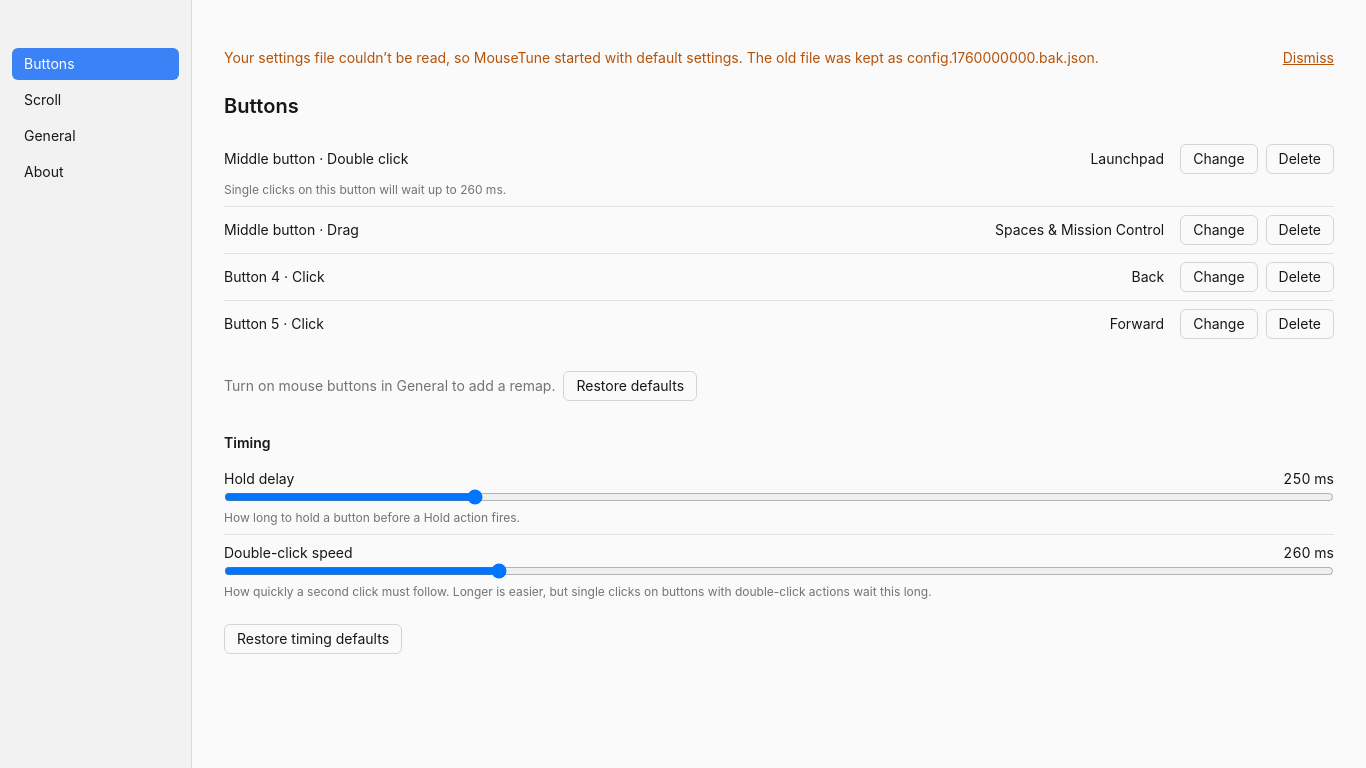
it: App › shows the settings recovery notice on the page Settings opens on
Expected: the heading "Buttons" is shown, [224,94,299,118]
Expected: the text "kept as config.1760000000.bak.json" is shown, [747,49,1099,66]
Click the button "Dismiss".
click(1308, 58)  # box [1283,48,1334,68]
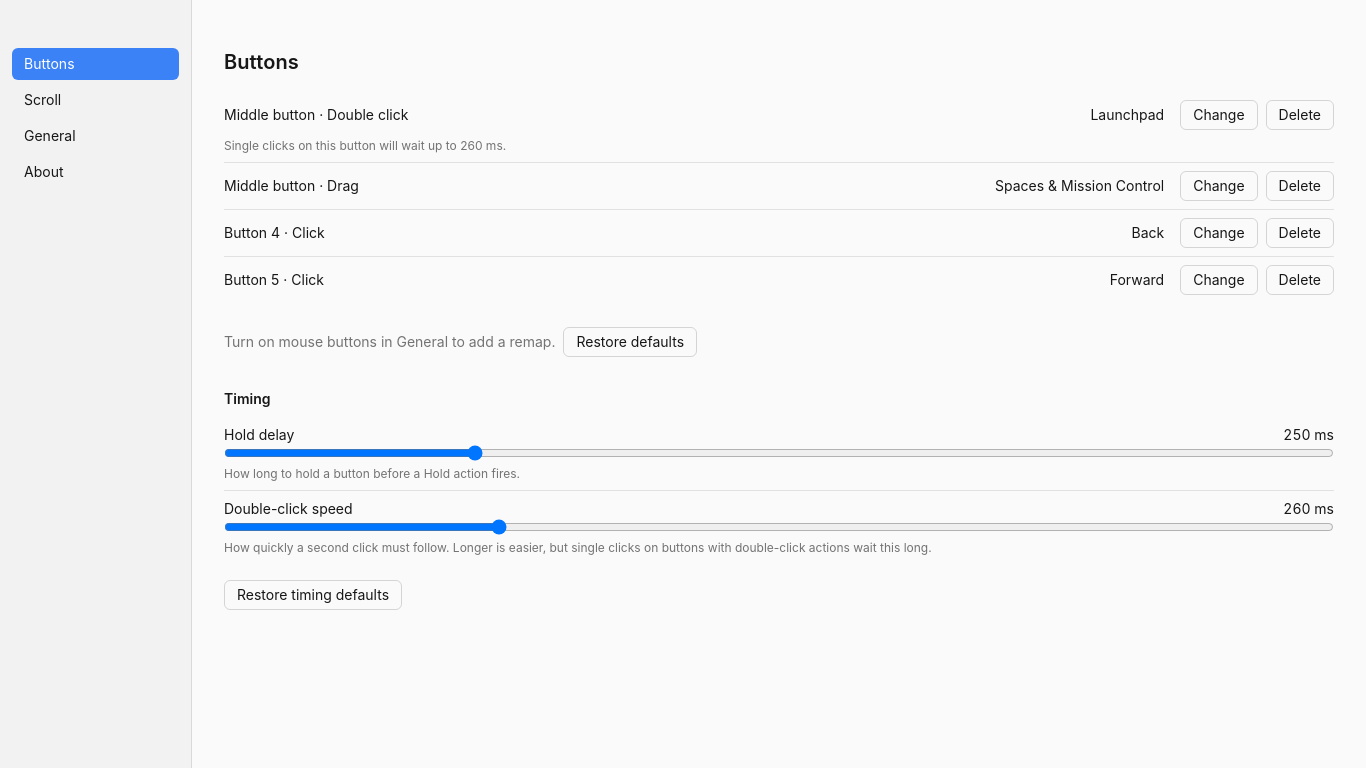
Now the text "kept as" is gone
